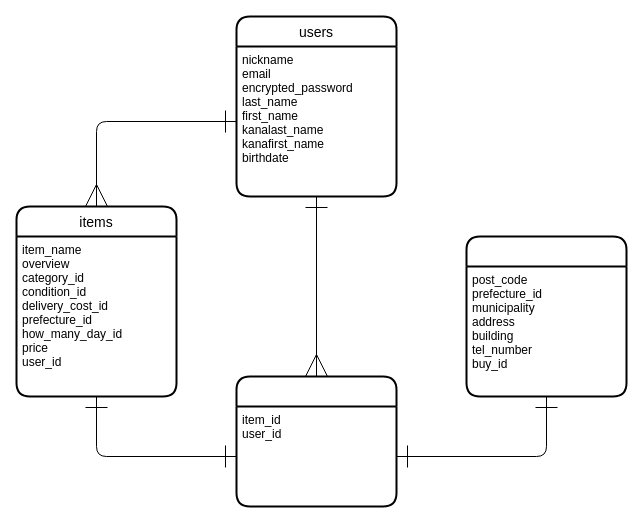
The diagram is 643 pixels wide and 523 high, and some of its shapes have lost their labels. The shapes that lost their labels are listed below. From the top down, each one's box as (x1, y1, x2, y2) in pixels, then its label:
(465, 235, 627, 397): shippings
(235, 375, 397, 507): buys
